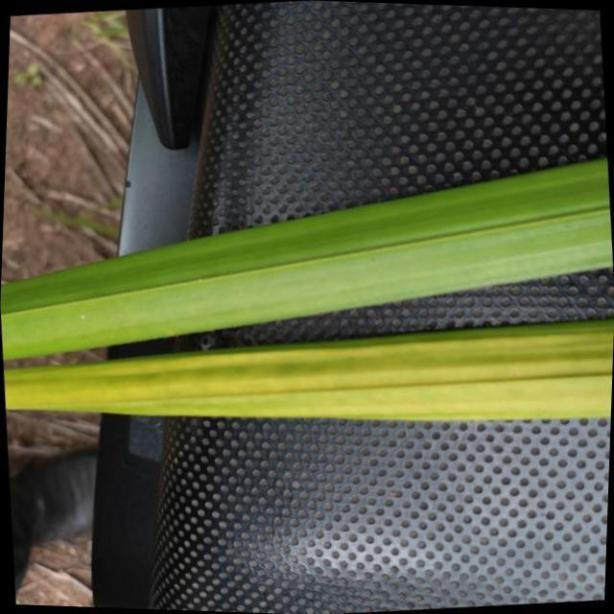nitrogen: (1, 158, 614, 362), (0, 323, 614, 425)
